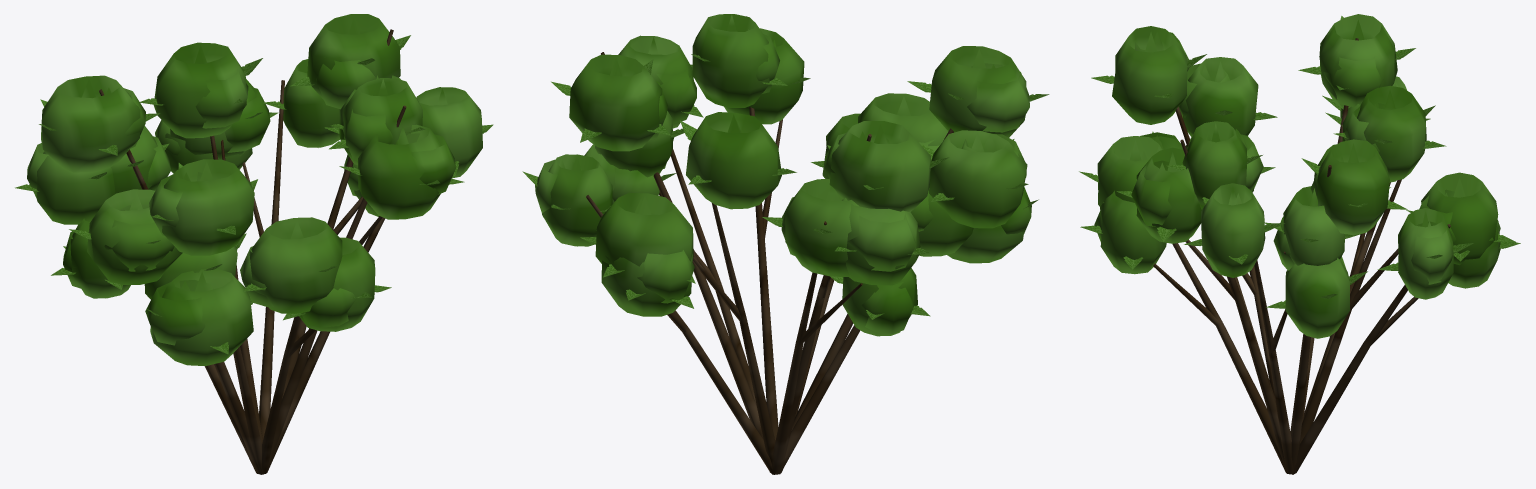
The model's file is filbert_small03-lod0.glb.
3 renders of one model, left to right at view 1: azimuth 30°, elevation 25°; view 2: azimuth 150°, elevation 25°; view 3: azimuth 270°, elevation 25°, orthographic. The views are drawn at different scales.
Visible parts, largest first — view 1: TZ_filbert_shrub_Batch_00_LOD0, TZ_filbert_shrub_Batch_02_LOD0, TZ_filbert_shrub_Batch_01_LOD0; view 2: TZ_filbert_shrub_Batch_00_LOD0, TZ_filbert_shrub_Batch_02_LOD0, TZ_filbert_shrub_Batch_01_LOD0; view 3: TZ_filbert_shrub_Batch_00_LOD0, TZ_filbert_shrub_Batch_02_LOD0, TZ_filbert_shrub_Batch_01_LOD0.
Part boxes in pixels (x1,y1,x2,y2): TZ_filbert_shrub_Batch_00_LOD0: [27, 14, 482, 366]; TZ_filbert_shrub_Batch_02_LOD0: [99, 29, 406, 474]; TZ_filbert_shrub_Batch_01_LOD0: [15, 35, 493, 354]; TZ_filbert_shrub_Batch_00_LOD0: [535, 14, 1031, 336]; TZ_filbert_shrub_Batch_02_LOD0: [586, 16, 953, 474]; TZ_filbert_shrub_Batch_01_LOD0: [522, 54, 1049, 319]; TZ_filbert_shrub_Batch_00_LOD0: [1094, 14, 1500, 338]; TZ_filbert_shrub_Batch_02_LOD0: [1153, 38, 1450, 474]; TZ_filbert_shrub_Batch_01_LOD0: [1079, 16, 1520, 308].
Bounding box in the file's own units: 1.17 × 1.05 × 1.08.
3 materials, 3 textured.
